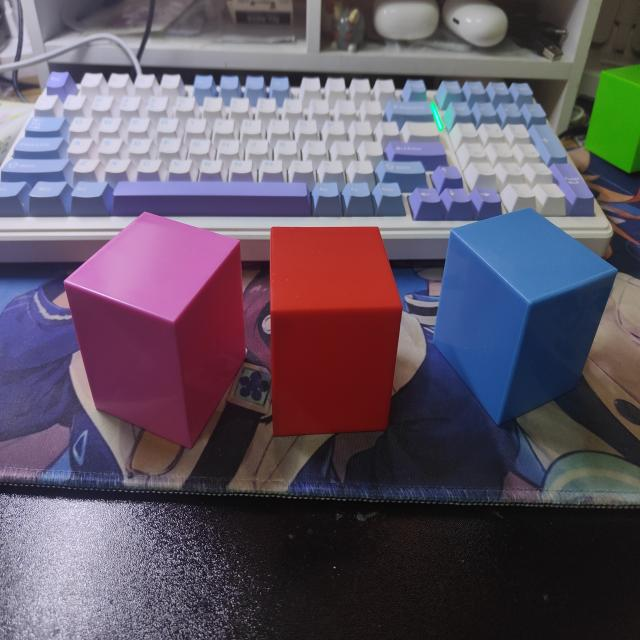blue: (433, 211, 618, 429)
pink: (62, 215, 246, 466)
red: (270, 225, 404, 440)
